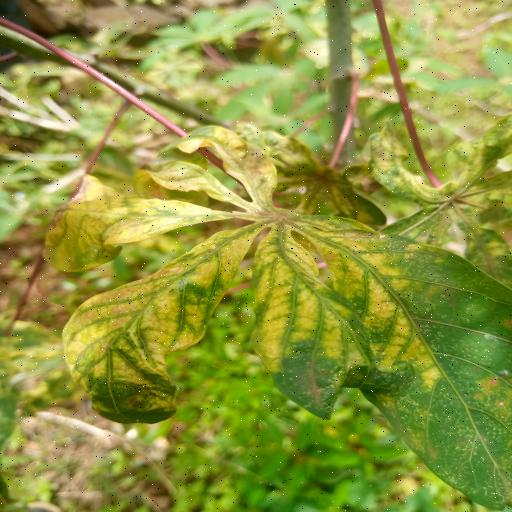Cassava_Mosaic: (39, 127, 512, 512)
